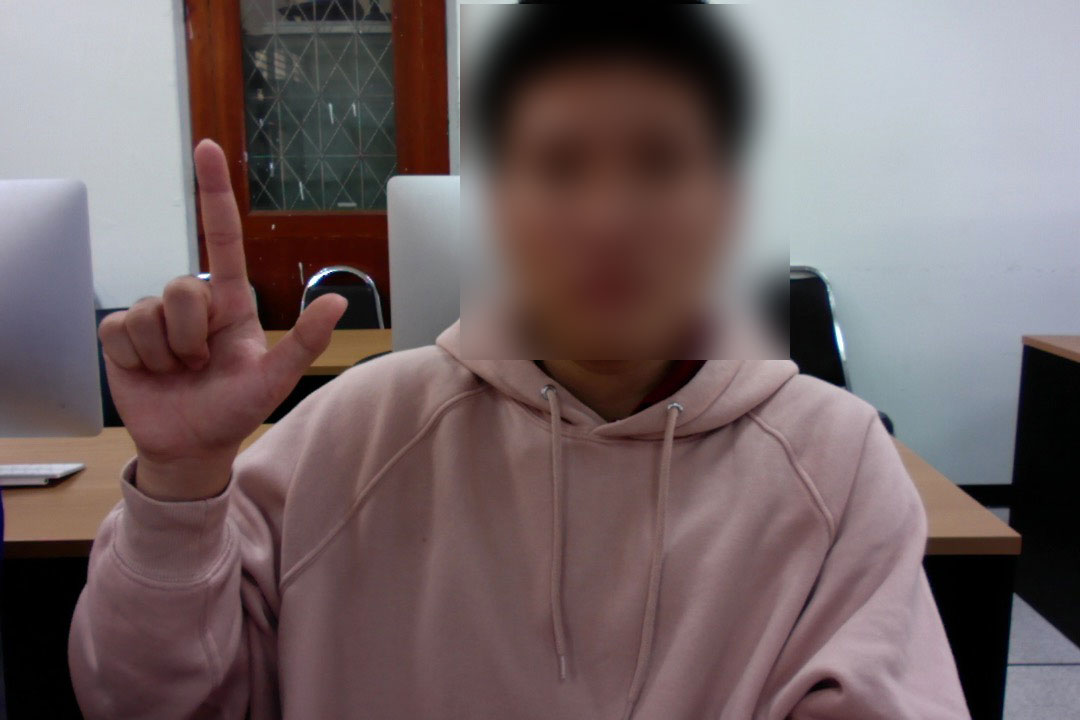lor: (68, 133, 360, 479)
